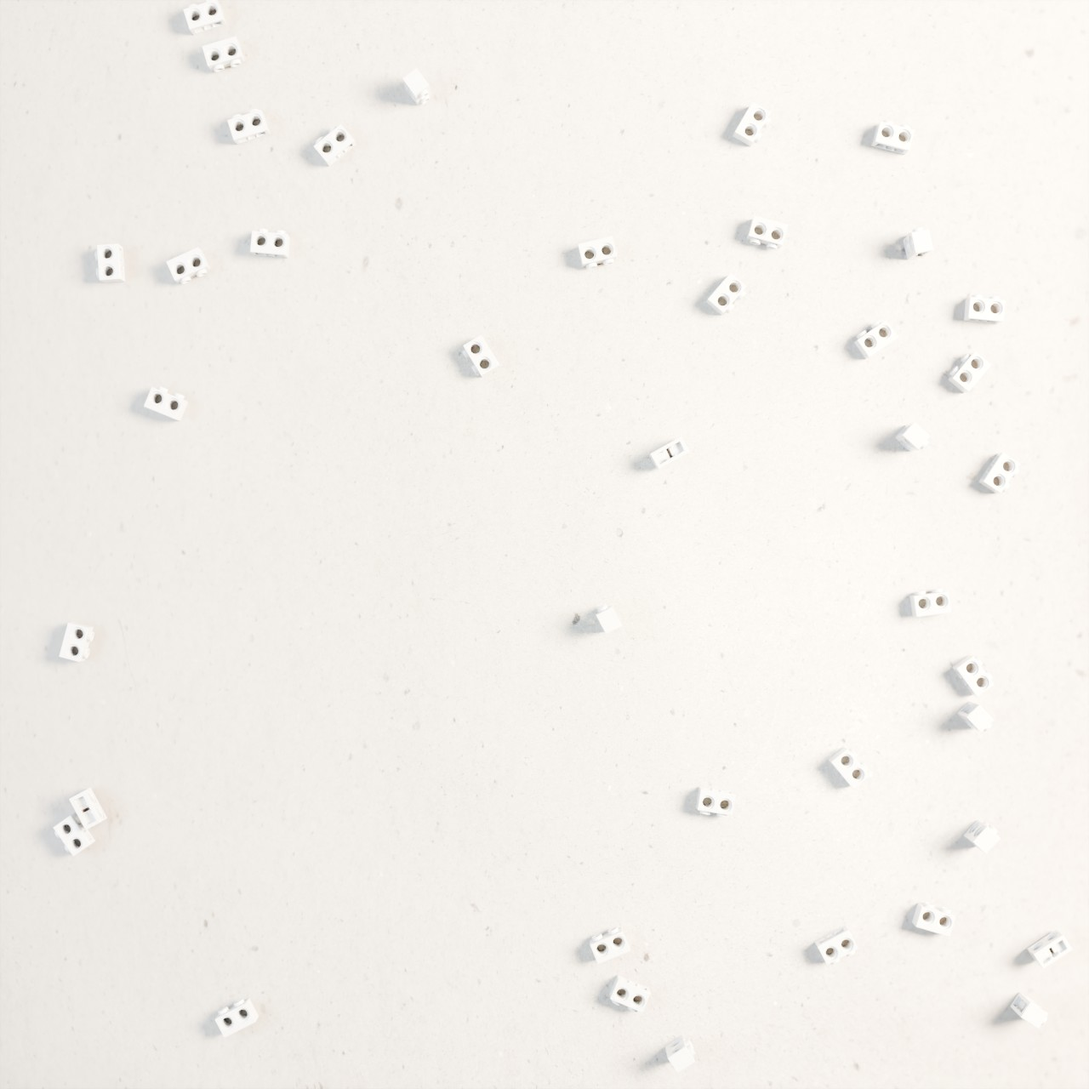lego: (53, 812, 96, 856), (948, 351, 992, 393), (1027, 929, 1073, 969), (828, 746, 870, 789), (314, 124, 356, 167), (978, 452, 1021, 494), (706, 272, 747, 316), (952, 655, 994, 697), (215, 998, 259, 1038), (854, 320, 898, 360), (814, 926, 859, 965), (733, 101, 771, 147), (166, 247, 211, 284), (69, 787, 107, 830), (462, 335, 500, 378), (609, 975, 651, 1013), (590, 927, 631, 965), (202, 36, 245, 72), (227, 109, 270, 145), (144, 386, 188, 421), (183, 0, 227, 35), (912, 902, 956, 937), (872, 120, 915, 155), (746, 215, 788, 250), (1010, 992, 1048, 1029), (59, 622, 94, 662), (649, 436, 690, 470), (963, 820, 1001, 854), (578, 236, 617, 269), (696, 786, 736, 818), (910, 588, 952, 617), (964, 295, 1006, 324), (250, 228, 290, 258), (957, 701, 994, 733), (665, 1035, 696, 1073), (95, 244, 125, 283), (402, 68, 432, 106), (894, 422, 930, 452), (903, 227, 933, 260), (595, 604, 622, 634)
